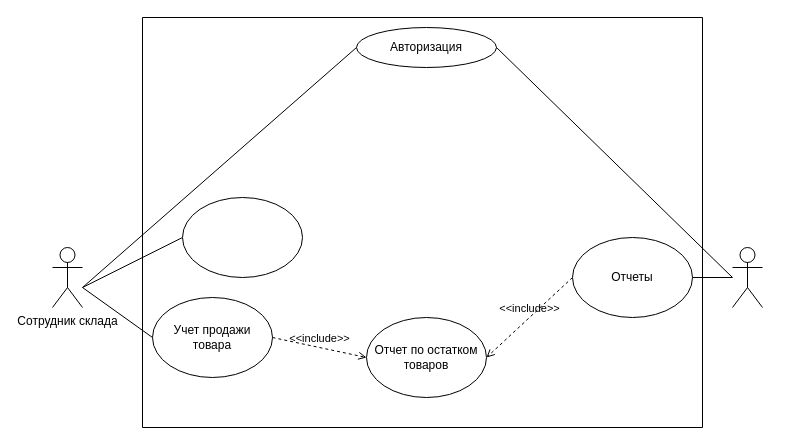
Some shapes in this 792 by 445 pixel diagram are drawn without their labels. The centre of each missing label's shape, as x and y in pixels:
Бухгалтер: pixel 747 277
Учет поступления товара: pixel 242 237
